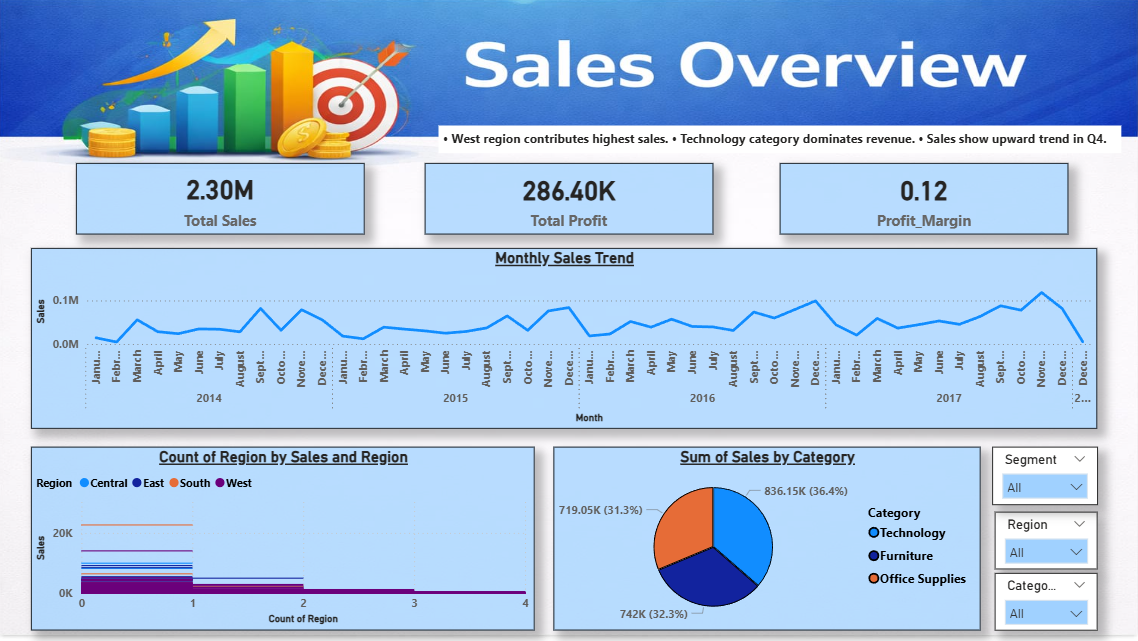

The page's visual inventory and layout, read from the dashboard file:
{"tool":"powerbi","page":{"name":"Sales Overview","canvas":[1280,720],"ordinal":0},"visuals":[{"type":"card","title":"Total Sales","fields":{"Values":["Table1.Total Sales"]},"box":[98.8,192.1,317,78.2],"z":0},{"type":"card","title":"Total Sales","fields":{"Values":["Table1.Total Profit"]},"box":[481.4,191.4,317.1,78.6],"z":1000},{"type":"card","title":"Total Sales","fields":{"Values":["Table1.Profit_Margin"]},"box":[871.4,191.4,317.1,78.6],"z":2000},{"type":"lineChart","title":"Monthly Sales Trend","fields":{"Y":["Sum(Table1.Sales)"],"Category":["Table1.Ship Date.Variation.Date Hierarchy.Year","Table1.Order Date.Variation.Date Hierarchy.Month"]},"box":[50,285.7,1170,198.6],"z":3000},{"type":"barChart","fields":{"Category":["Table1.Sales"],"Series":["Table1.Region"],"Y":["Count(Table1.Region)"]},"box":[50,504.3,552.9,201.4],"z":4000},{"type":"pieChart","fields":{"Category":["Table1.Category"],"Y":["Sum(Table1.Sales)"]},"box":[622.9,504.3,468.6,201.4],"z":5000},{"type":"slicer","fields":{"Values":["Table1.Region"]},"box":[1107.1,574.3,112.9,62.9],"z":6000},{"type":"slicer","fields":{"Values":["Table1.Category"]},"box":[1107.1,642.9,112.9,62.9],"z":7000},{"type":"slicer","fields":{"Values":["Table1.Segment"]},"box":[1104.3,504.3,115.7,64.3],"z":8000},{"type":"textbox","box":[496.7,150.9,749.2,30.2],"z":9000}]}

Visuals, with their boxes in screenshot pixels (x1, y1, x2, y2), scaled from the page's 1280x720 canvas onto the 1138x641 screenshot:
"Total Sales" card: bbox=[88, 171, 370, 241]
"Total Sales" card: bbox=[428, 170, 710, 240]
"Total Sales" card: bbox=[775, 170, 1057, 240]
"Monthly Sales Trend" lineChart: bbox=[44, 254, 1085, 431]
barChart - Table1.Sales x Table1.Region: bbox=[44, 449, 536, 628]
pieChart - Table1.Category x Sum(Table1.Sales): bbox=[554, 449, 970, 628]
slicer - Table1.Region: bbox=[984, 511, 1085, 567]
slicer - Table1.Category: bbox=[984, 572, 1085, 628]
slicer - Table1.Segment: bbox=[982, 449, 1085, 506]
textbox: bbox=[442, 134, 1108, 161]
